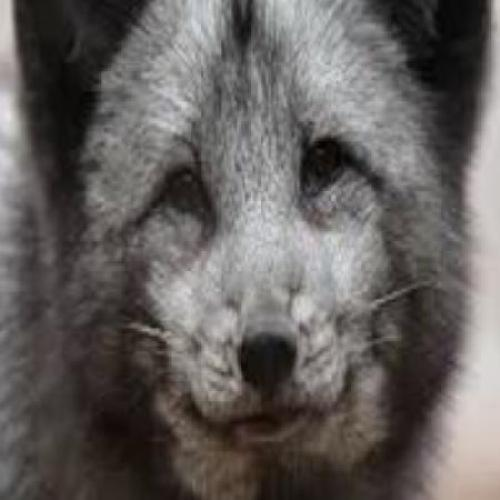arctic_fox-endangered: (13, 4, 486, 473)
